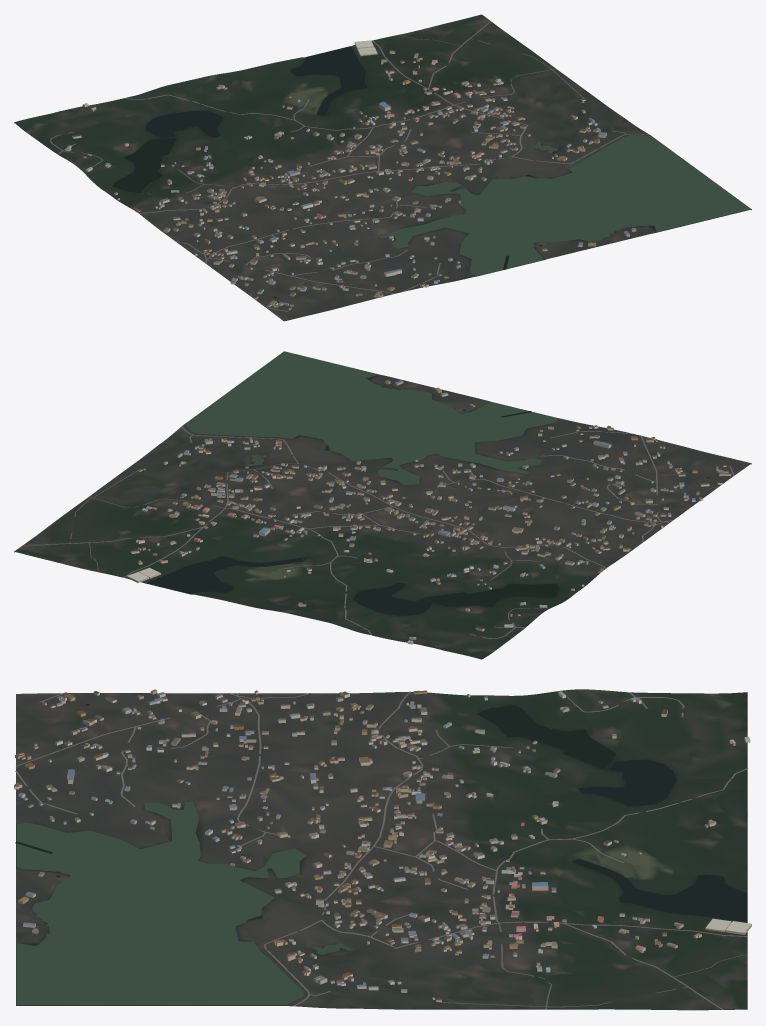
The picture shows the model from 3 angles, top to bottom: view 1: azimuth 30°, elevation 25°; view 2: azimuth 150°, elevation 25°; view 3: azimuth 270°, elevation 25°; orthographic projection. The views are drawn at different scales.
Parts seen in each view (by area): view 1: ground, water, buildings, roads; view 2: ground, water, buildings, roads; view 3: ground, water, buildings, roads.
Part boxes in pixels (left/top/right/bottom): ground: left=14, top=14, right=751, bottom=321; water: left=112, top=46, right=750, bottom=297; buildings: left=65, top=40, right=636, bottom=310; roads: left=50, top=21, right=649, bottom=311; ground: left=14, top=352, right=751, bottom=659; water: left=146, top=351, right=709, bottom=615; buildings: left=127, top=380, right=731, bottom=644; roads: left=23, top=426, right=734, bottom=638; ground: left=16, top=689, right=747, bottom=1010; water: left=15, top=704, right=747, bottom=1005; buildings: left=14, top=689, right=751, bottom=1001; roads: left=15, top=691, right=747, bottom=1009.
Bounding box in the file's own units: 1409 × 30.29 × 1414.
